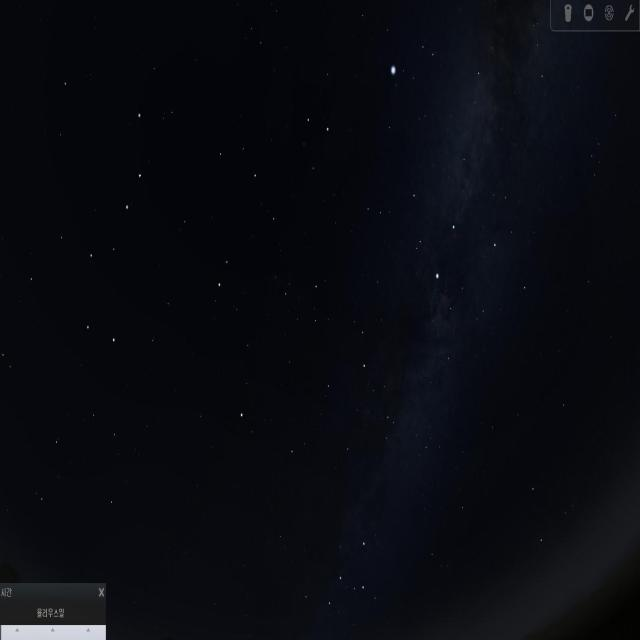cygnus: (407, 88, 500, 290)
ursa_major: (83, 111, 161, 359), (298, 522, 372, 616)
